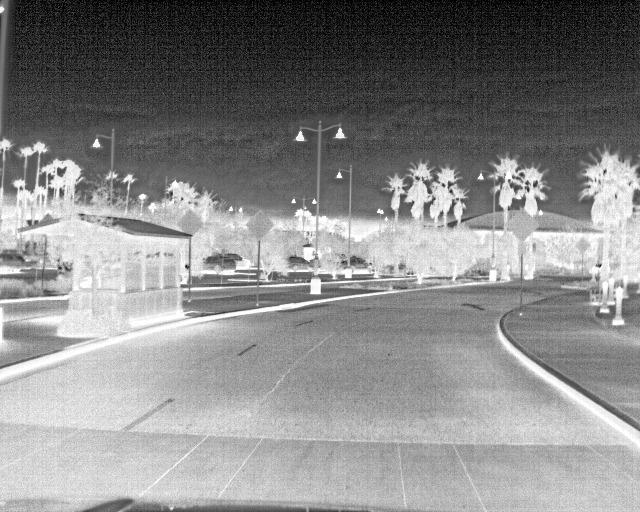car: (203, 255, 238, 274), (285, 255, 313, 272)
